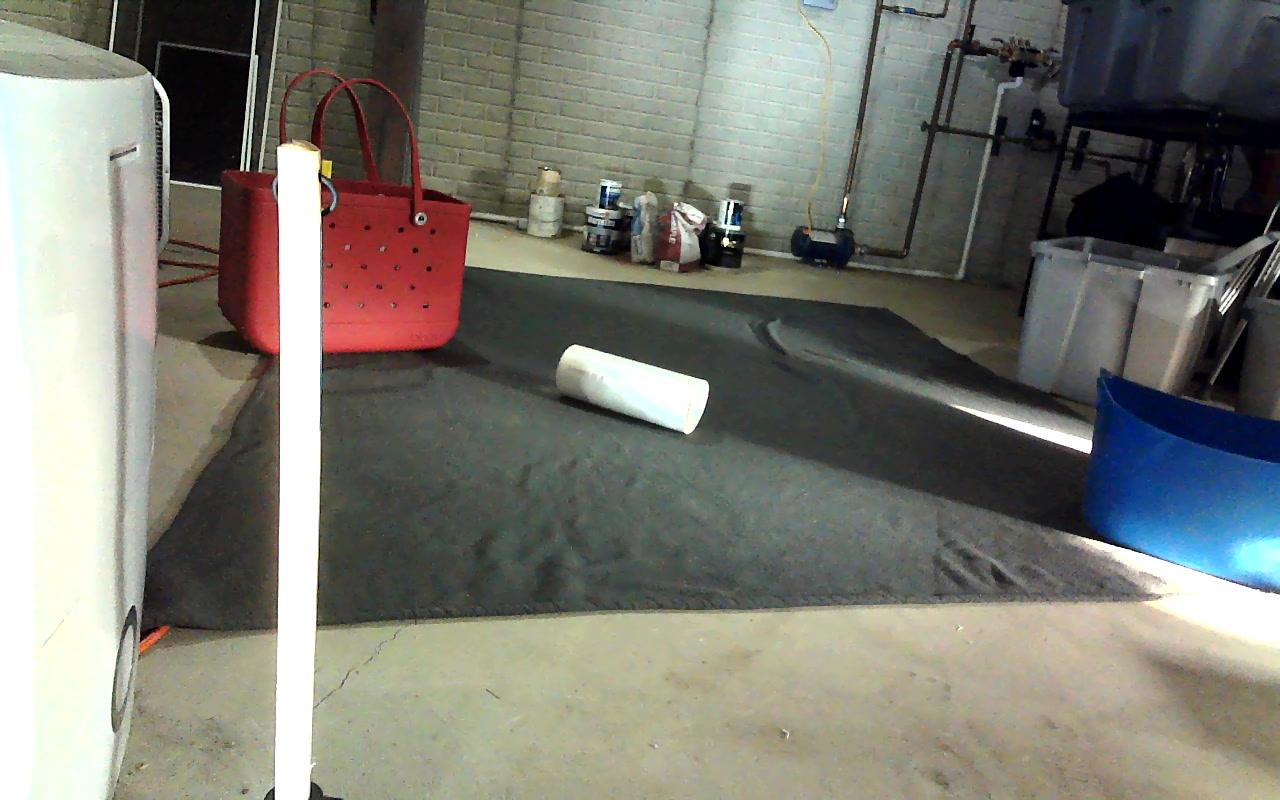coral: (555, 343, 709, 432)
